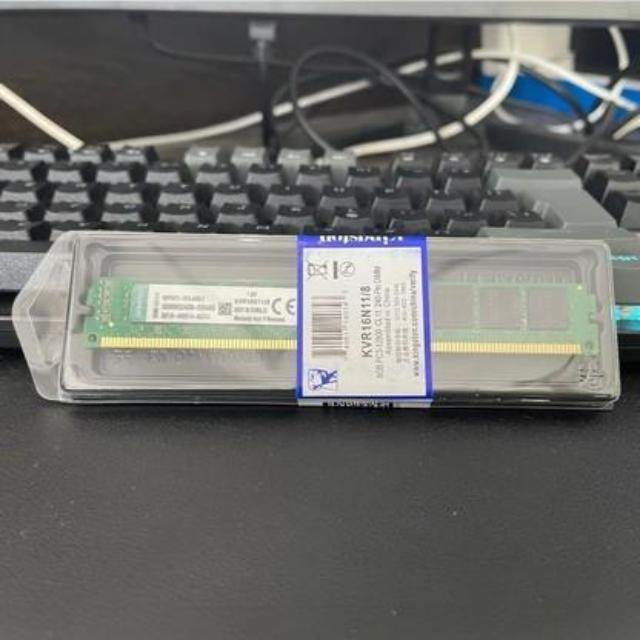RAM: (71, 269, 596, 357)
